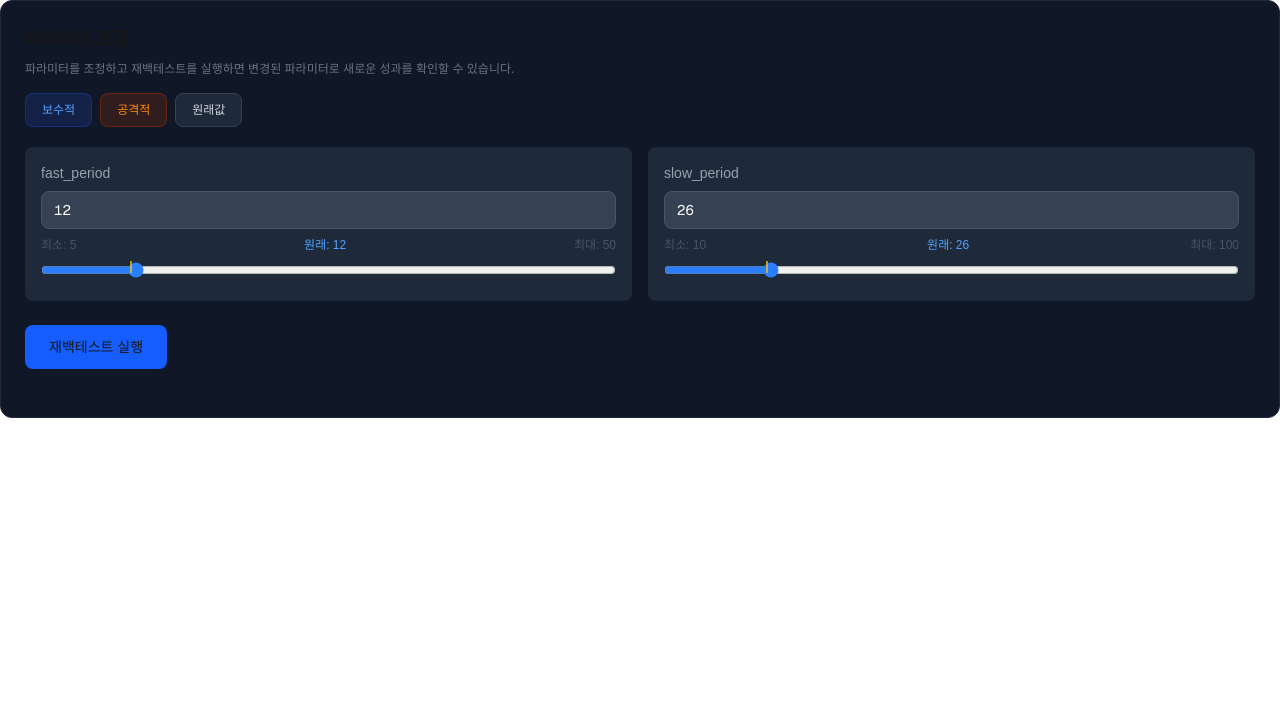
Scenario: ParamAdjustTab › shows error message on rebacktest failure
What coordinates should you click on to do the following:
click the button "재백테스트 실행"
I would click on:
 (96, 347)
Its box is [25,325,167,369].
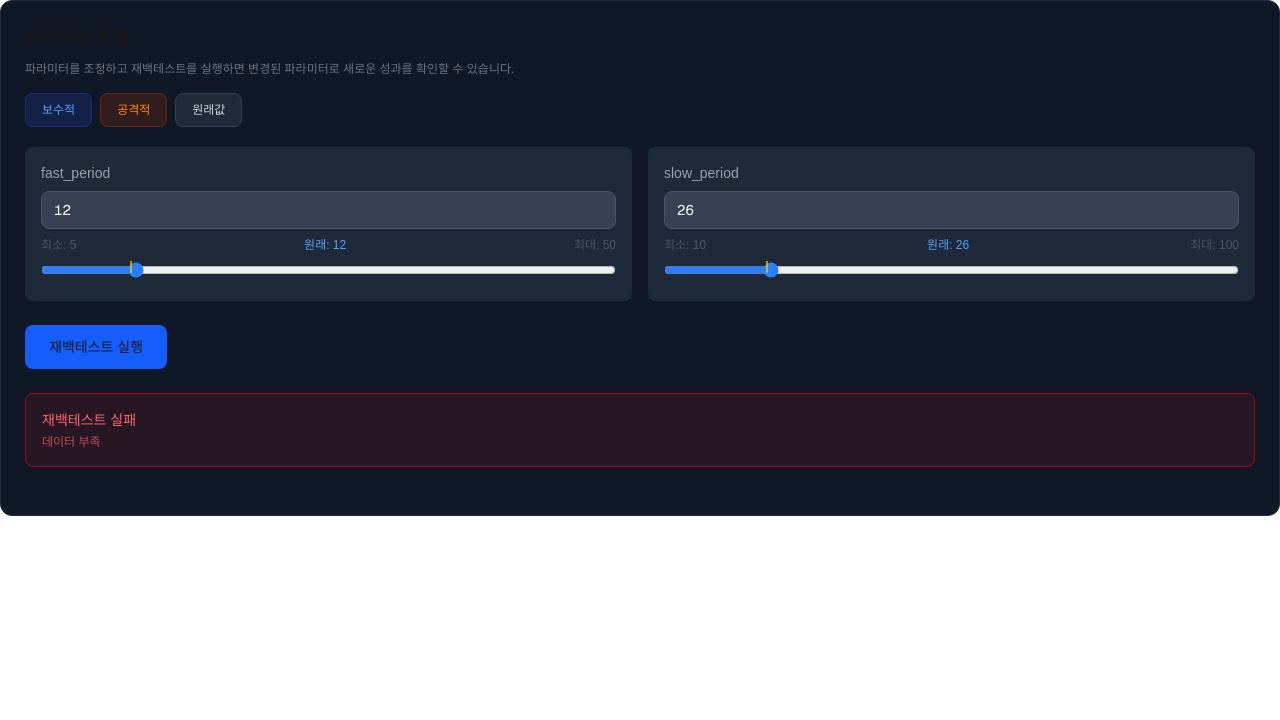
Now the text "재백테스트 실패" is shown, box [42,412,136,428]
Now the text "데이터 부족" is shown, box [42,435,100,449]
